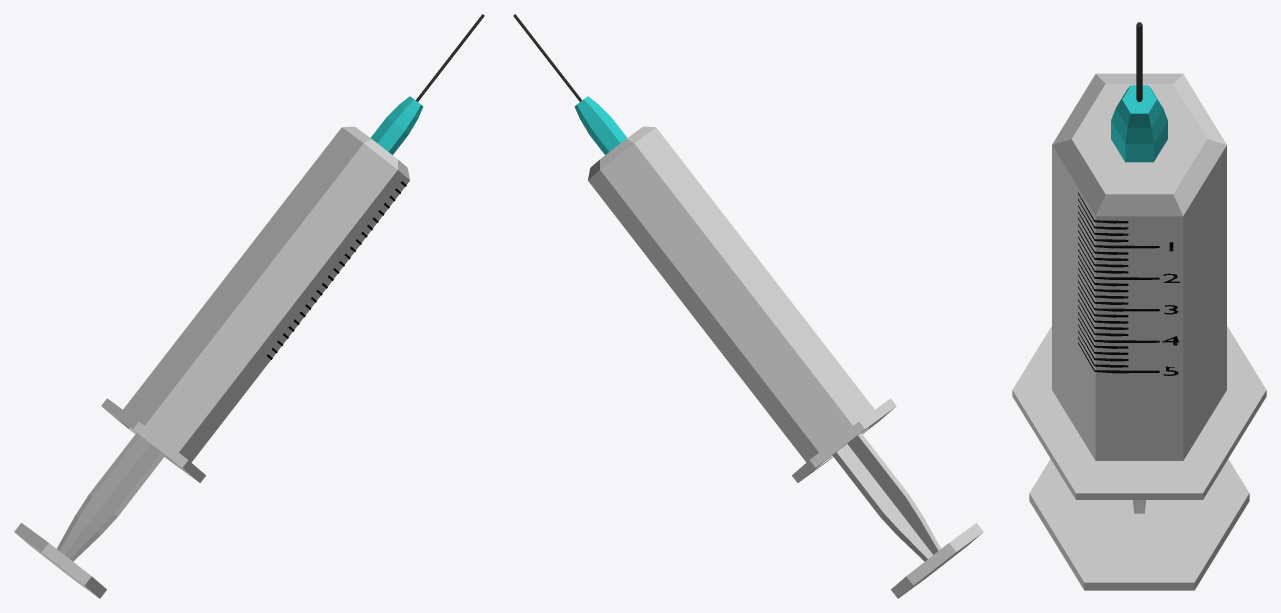
The model's file is syring.obj.
3 renders of one model, left to right at view 1: azimuth 30°, elevation 25°; view 2: azimuth 150°, elevation 25°; view 3: azimuth 270°, elevation 25°, orthographic. The views are drawn at different scales.
Parts seen in each view (by area): view 1: syring.013_syring; view 2: syring.013_syring; view 3: syring.013_syring.
Boxes of the visible parts, bbox=[...] form: syring.013_syring: bbox=[14, 14, 484, 598]; syring.013_syring: bbox=[513, 14, 983, 598]; syring.013_syring: bbox=[1012, 22, 1266, 590].
Size of the model in its own units: 85.21 by 85.21 by 20.53.
